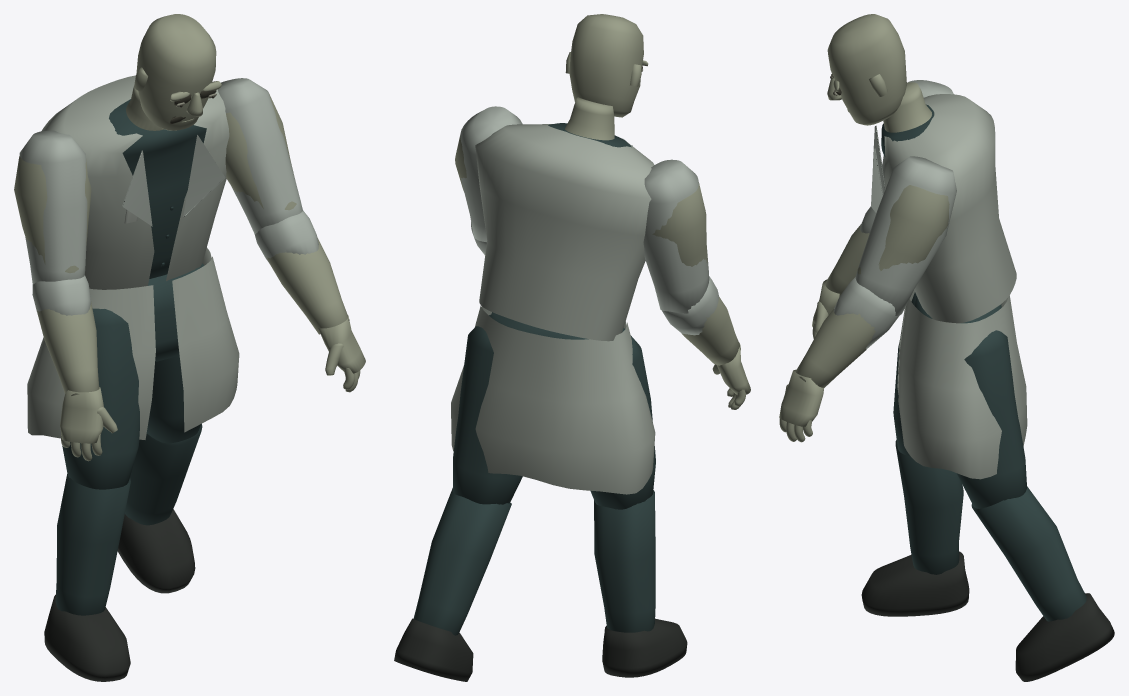
The model's file is enemy-lab-assistant.glb.
The picture shows the model from 3 angles, left to right: view 1: azimuth 30°, elevation 25°; view 2: azimuth 150°, elevation 25°; view 3: azimuth 270°, elevation 25°; orthographic projection. The views are drawn at different scales.
Visible parts, largest first — view 1: Open lab coat, Split coat tails, Trouser shin_L, Trouser thigh_L, Coat upper sleeve_L, Anatomical head, Coat upper sleeve_R, Chest, Shoe_L, Shoe_R, Trouser shin_R, Forearm anatomy_R (+12 smaller); view 2: Open lab coat, Split coat tails, Trouser shin_R, Trouser shin_L, Anatomical head, Coat upper sleeve_L, Trouser thigh_R, Shoe_L, Shoe_R, Coat upper sleeve_R, Upper arm_L, Forearm anatomy_L (+5 smaller); view 3: Open lab coat, Split coat tails, Trouser shin_R, Anatomical head, Trouser thigh_R, Trouser shin_L, Coat upper sleeve_R, Shoe_L, Shoe_R, Upper arm_R, Forearm anatomy_R, Frayed coat cuff_R (+5 smaller).
Boxes of the visible parts, x1,y1,x2,y2 form: Open lab coat: [41, 75, 229, 289]; Split coat tails: [27, 247, 239, 439]; Trouser shin_L: [55, 474, 130, 615]; Trouser thigh_L: [62, 308, 139, 489]; Coat upper sleeve_L: [19, 130, 87, 284]; Anatomical head: [136, 14, 216, 130]; Coat upper sleeve_R: [218, 78, 302, 234]; Chest: [109, 99, 206, 278]; Shoe_L: [44, 594, 130, 681]; Shoe_R: [117, 509, 195, 593]; Trouser shin_R: [125, 423, 202, 525]; Forearm anatomy_R: [265, 238, 349, 334]; Open lab coat: [475, 124, 654, 341]; Split coat tails: [451, 305, 655, 494]; Trouser shin_R: [413, 488, 511, 635]; Trouser shin_L: [594, 490, 655, 632]; Anatomical head: [569, 14, 643, 117]; Coat upper sleeve_L: [643, 159, 709, 313]; Trouser thigh_R: [453, 314, 522, 504]; Shoe_L: [602, 618, 687, 677]; Shoe_R: [394, 618, 473, 681]; Coat upper sleeve_R: [460, 106, 522, 242]; Upper arm_L: [652, 182, 708, 266]; Forearm anatomy_L: [681, 296, 740, 365]; Open lab coat: [884, 94, 1016, 323]; Split coat tails: [897, 290, 1027, 479]; Trouser shin_R: [971, 486, 1086, 621]; Anatomical head: [827, 14, 906, 125]; Trouser thigh_R: [957, 330, 1026, 508]; Trouser shin_L: [895, 440, 963, 574]; Coat upper sleeve_R: [855, 156, 956, 315]; Shoe_L: [861, 551, 969, 616]; Shoe_R: [1015, 593, 1114, 681]; Upper arm_R: [857, 185, 949, 274]; Forearm anatomy_R: [795, 309, 875, 387]; Frayed coat cuff_R: [834, 277, 898, 349].
Size of the model in its own units: 0.7277 by 1.59 by 0.7767.
